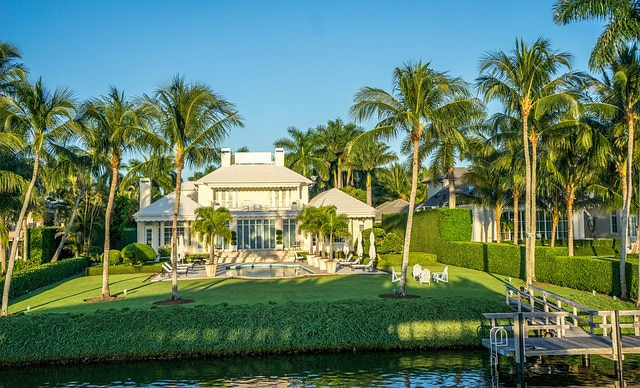tree: (471, 40, 592, 295), (362, 68, 467, 290), (138, 71, 233, 310), (1, 78, 79, 315), (74, 89, 150, 303)
